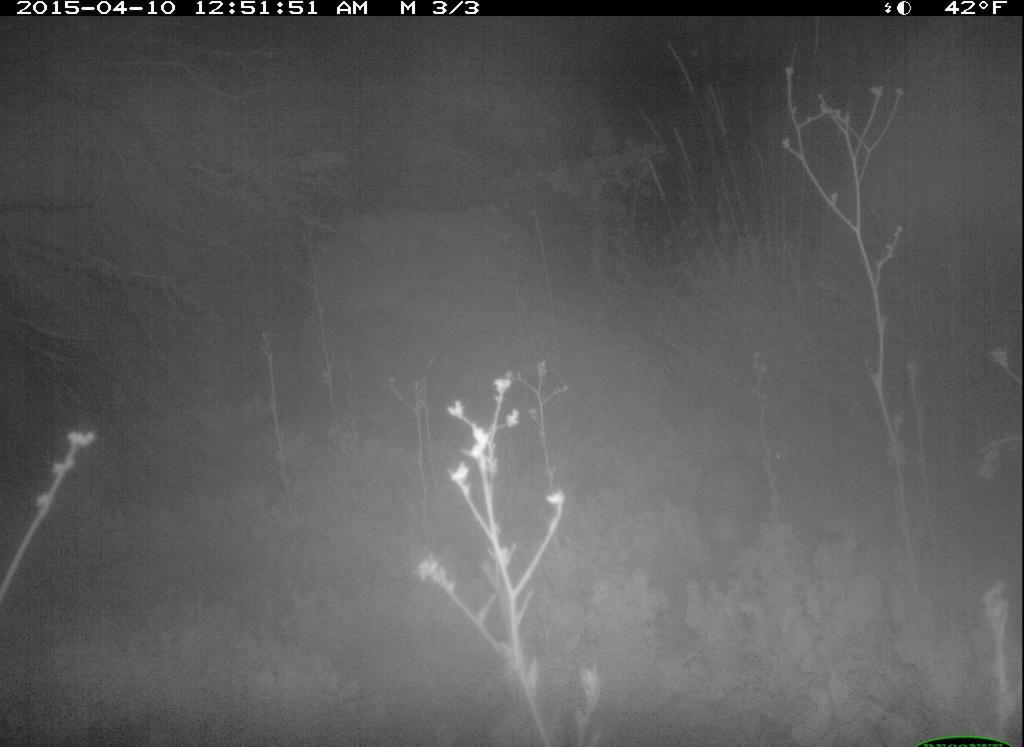rabbit: (688, 432, 790, 571)
